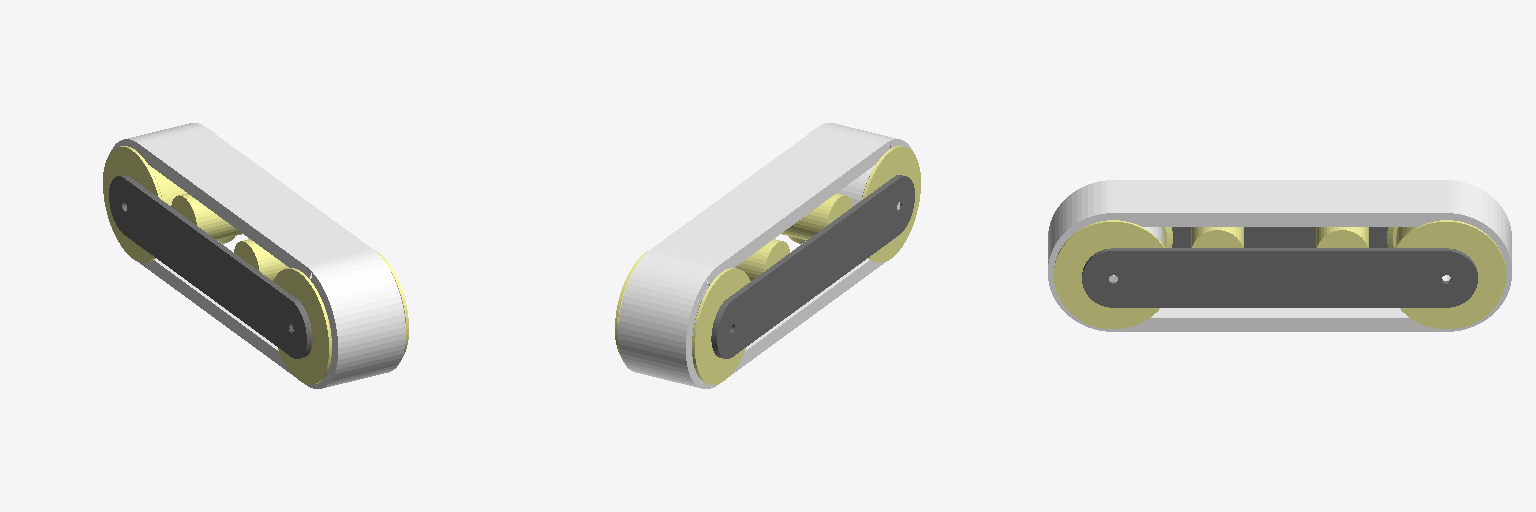
File: flipper_lb.obj
3 renders of one model, left to right at view 1: azimuth 30°, elevation 25°; view 2: azimuth 150°, elevation 25°; view 3: azimuth 270°, elevation 25°, orthographic.
Bounding box in the file's own units: 107 × 126 × 446.